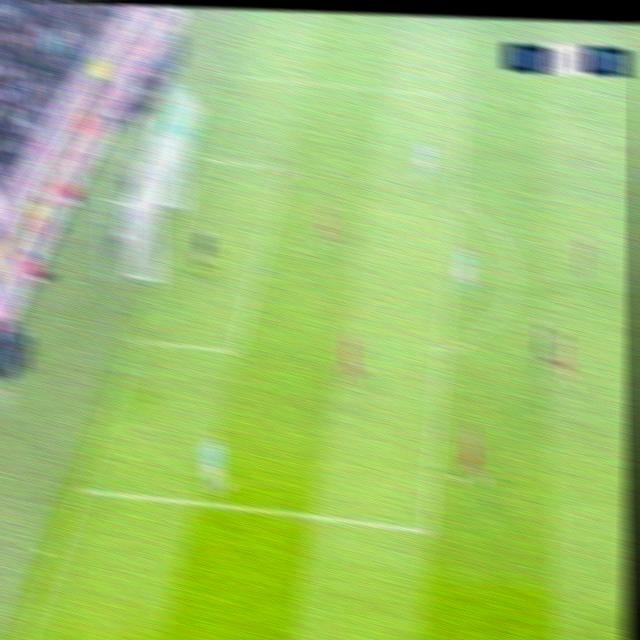bigarea_bottom_inner: (415, 513, 443, 542)
bigarea_bottom_outter: (71, 478, 95, 502)
bigarea_top_inner: (452, 84, 476, 108)
bigarea_top_outter: (222, 66, 243, 83)
bottom_arc_area_intersection: (430, 339, 455, 362)
smallarea_bottom_inner: (224, 333, 251, 364)
smallarea_bottom_outter: (125, 327, 150, 351)
smallarea_top_inner: (272, 155, 296, 178)
smallarea_top_outter: (190, 146, 214, 170)
top_arc_area_intersection: (444, 186, 469, 212)
